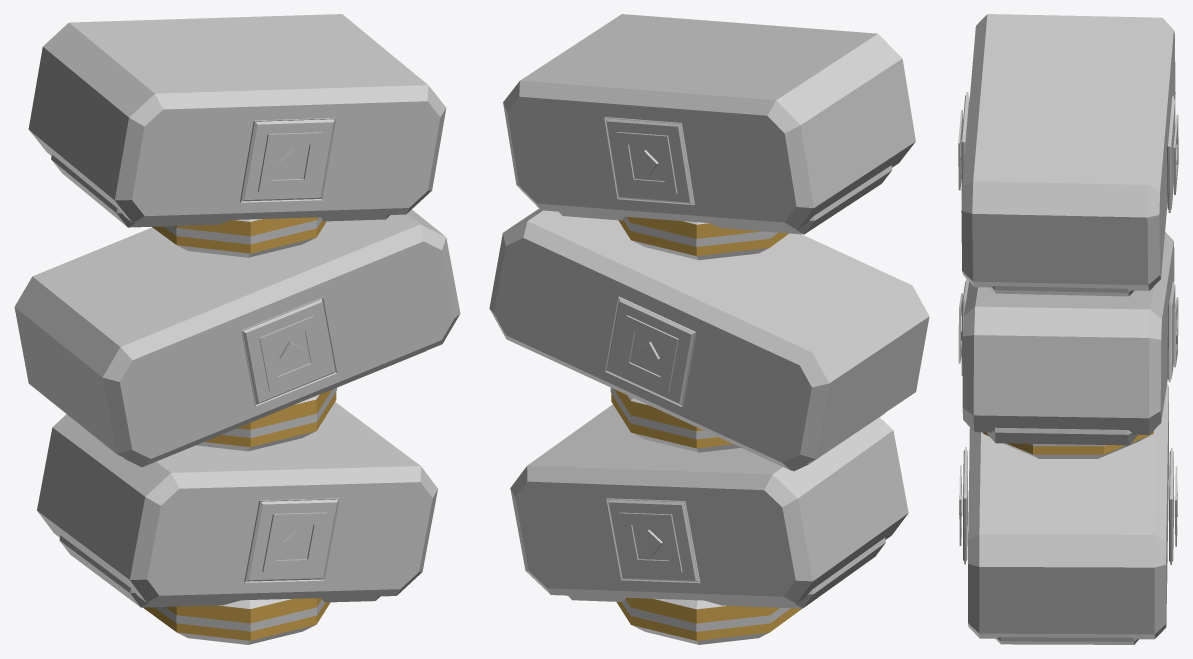
The model's file is wand_motion_17.obj.
3 renders of one model, left to right at view 1: azimuth 30°, elevation 25°; view 2: azimuth 150°, elevation 25°; view 3: azimuth 270°, elevation 25°, orthographic. The views are drawn at different scales.
Visible parts, largest first — view 1: chamfered_seal_tablet_2, chamfered_seal_tablet_1, chamfered_seal_tablet_0, tablet_spacer_0, inset_rune_socket_5, inset_rune_socket_3, inset_rune_socket_1, tablet_spacer_2, tablet_spacer_1, seal_shadow_base_0, seal_shadow_base_2, tablet_spacer_dark_seam_0 (+2 smaller); view 2: chamfered_seal_tablet_1, chamfered_seal_tablet_2, chamfered_seal_tablet_0, tablet_spacer_0, inset_rune_socket_0, inset_rune_socket_2, inset_rune_socket_4, tablet_spacer_2, tablet_spacer_1, seal_shadow_base_2, seal_shadow_base_0, tablet_spacer_dark_seam_0 (+2 smaller); view 3: chamfered_seal_tablet_2, chamfered_seal_tablet_0, chamfered_seal_tablet_1, seal_shadow_base_1, tablet_spacer_1, seal_shadow_base_2, seal_shadow_base_0, inset_rune_socket_4, inset_rune_socket_2, inset_rune_socket_1, inset_rune_socket_0, inset_rune_socket_5.
Boxes of the visible parts, box(x1,y1,x2,y2) form: chamfered_seal_tablet_2: box(28, 14, 446, 222); chamfered_seal_tablet_1: box(14, 209, 460, 466); chamfered_seal_tablet_0: box(37, 402, 437, 602); tablet_spacer_0: box(143, 598, 330, 644); inset_rune_socket_5: box(240, 118, 336, 202); inset_rune_socket_3: box(241, 297, 336, 406); inset_rune_socket_1: box(244, 498, 339, 582); tablet_spacer_2: box(152, 217, 326, 257); tablet_spacer_1: box(196, 390, 336, 451); seal_shadow_base_0: box(59, 535, 380, 607); seal_shadow_base_2: box(51, 154, 390, 227); tablet_spacer_dark_seam_0: box(155, 599, 324, 631); chamfered_seal_tablet_1: box(489, 209, 929, 470); chamfered_seal_tablet_2: box(503, 14, 915, 229); chamfered_seal_tablet_0: box(510, 404, 908, 603); tablet_spacer_0: box(616, 597, 801, 644); inset_rune_socket_0: box(606, 498, 700, 583); inset_rune_socket_2: box(605, 296, 696, 406); inset_rune_socket_4: box(604, 117, 694, 204); tablet_spacer_2: box(618, 217, 788, 260); tablet_spacer_1: box(611, 389, 740, 452); seal_shadow_base_2: box(558, 165, 892, 234); seal_shadow_base_0: box(567, 538, 885, 608); tablet_spacer_dark_seam_0: box(622, 599, 790, 631); chamfered_seal_tablet_2: box(961, 14, 1175, 290); chamfered_seal_tablet_0: box(968, 384, 1168, 639); chamfered_seal_tablet_1: box(962, 231, 1174, 434); seal_shadow_base_1: box(987, 427, 1137, 445); tablet_spacer_1: box(983, 431, 1153, 458); seal_shadow_base_2: box(991, 286, 1134, 296); seal_shadow_base_0: box(995, 637, 1138, 644); inset_rune_socket_4: box(1167, 96, 1175, 212); inset_rune_socket_2: box(1167, 281, 1175, 382); inset_rune_socket_1: box(963, 447, 967, 564); inset_rune_socket_0: box(1169, 448, 1173, 564); inset_rune_socket_5: box(961, 92, 969, 198).
Bounding box in the file's own units: 0.1987 × 0.3089 × 0.1147.
